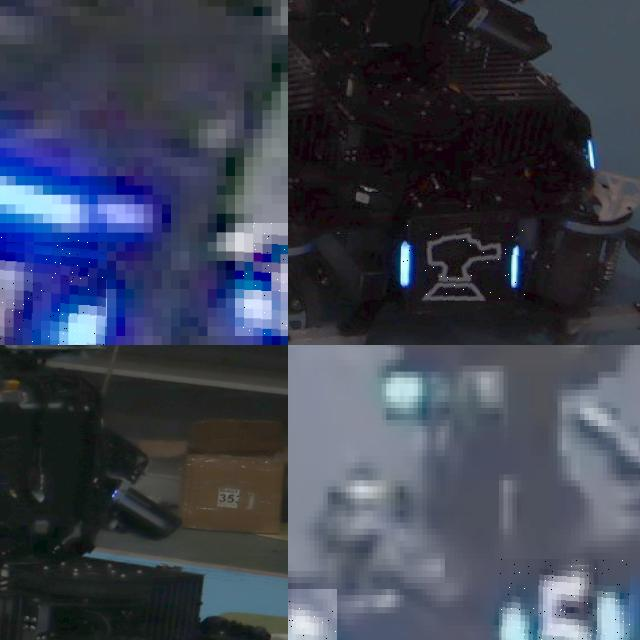B1: (0, 232, 107, 345), (235, 223, 288, 336)
B5: (499, 558, 629, 640)
Bs: (401, 223, 525, 301)
